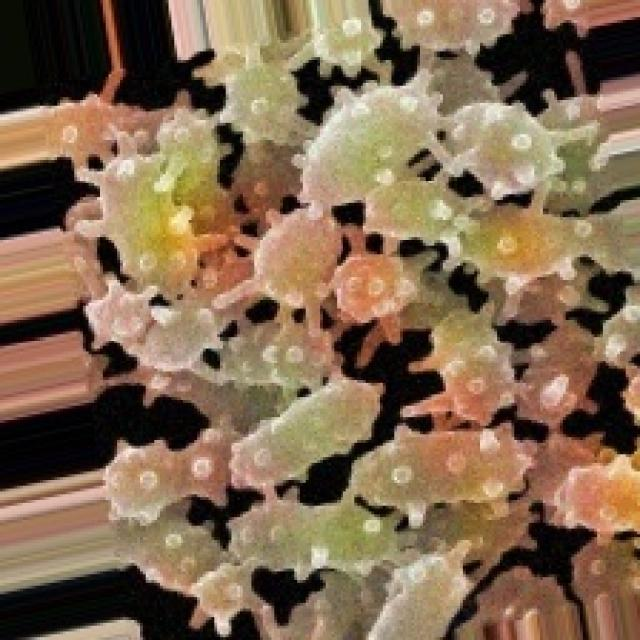Rod_bacteria: (57, 9, 637, 637)
